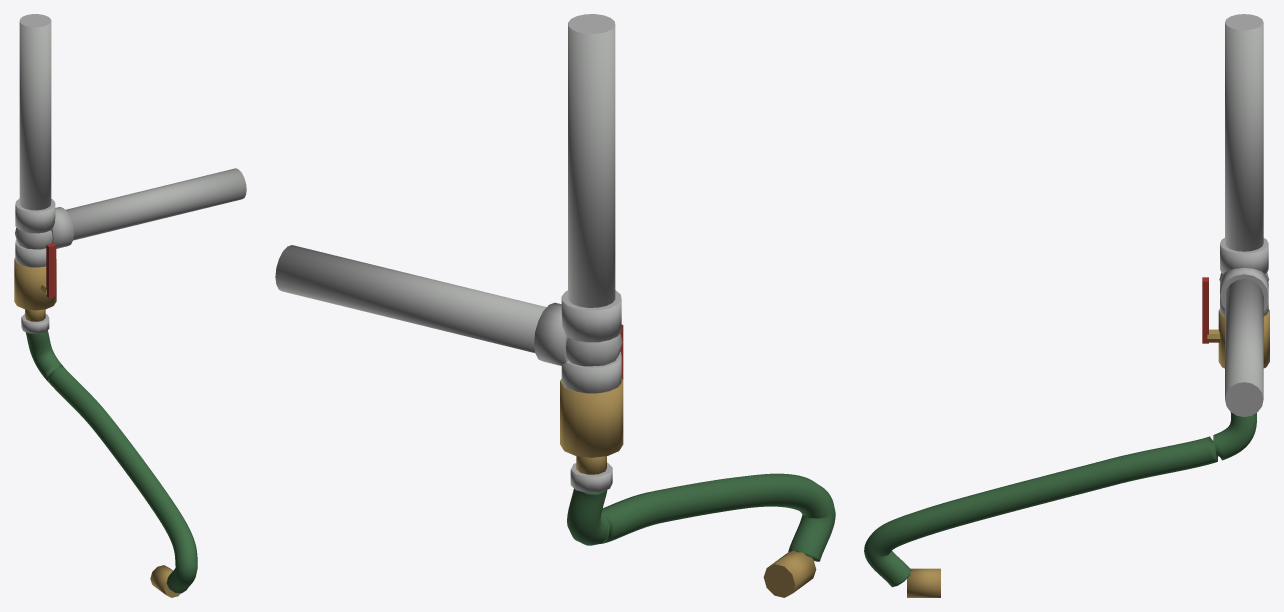
The model's file is barrel_fill_low_front1.obj.
3 views of the same model, side by side, from view 1: azimuth 30°, elevation 25°; view 2: azimuth 150°, elevation 25°; view 3: azimuth 270°, elevation 25° (orthographic). The views are drawn at different scales.
Parts seen in each view (by area): view 1: hose, pipe4, pipe2, valve_body, elbow_socket4, elbow_socket2, elbow_socket1, elbow_hub, valve_lever, nozzle, hose_collar; view 2: pipe4, pipe2, hose, valve_body, elbow_socket4, nozzle, elbow_socket1, elbow_socket2, elbow_hub, hose_collar; view 3: hose, pipe4, pipe2, elbow_socket4, nozzle, elbow_socket2, valve_body.
Part boxes in pixels (<box>): hose: <box>25,330,197,593</box>; pipe4: <box>19,14,51,210</box>; pipe2: <box>65,168,246,240</box>; valve_body: <box>14,258,56,310</box>; elbow_socket4: <box>15,198,55,233</box>; elbow_socket2: <box>51,207,73,248</box>; elbow_socket1: <box>15,239,46,267</box>; elbow_hub: <box>15,227,52,249</box>; valve_lever: <box>46,243,56,297</box>; nozzle: <box>150,565,180,597</box>; hose_collar: <box>21,314,49,333</box>; pipe4: <box>568,14,615,307</box>; pipe2: <box>275,245,546,352</box>; hose: <box>567,473,835,561</box>; valve_body: <box>560,378,623,457</box>; elbow_socket4: <box>561,290,621,342</box>; nozzle: <box>763,550,816,597</box>; elbow_socket1: <box>561,351,621,393</box>; elbow_socket2: <box>534,302,568,365</box>; elbow_hub: <box>566,333,622,366</box>; hose_collar: <box>570,462,612,492</box>; hose: <box>864,412,1256,587</box>; pipe4: <box>1225,14,1263,251</box>; pipe2: <box>1225,279,1263,416</box>; elbow_socket4: <box>1220,238,1268,273</box>; nozzle: <box>907,568,940,597</box>; elbow_socket2: <box>1220,267,1268,308</box>; valve_body: <box>1218,309,1269,368</box>.
Size of the model in its own units: 0.545 by 1.11 by 0.7142.
Materials: 4 (4 with a texture image).
